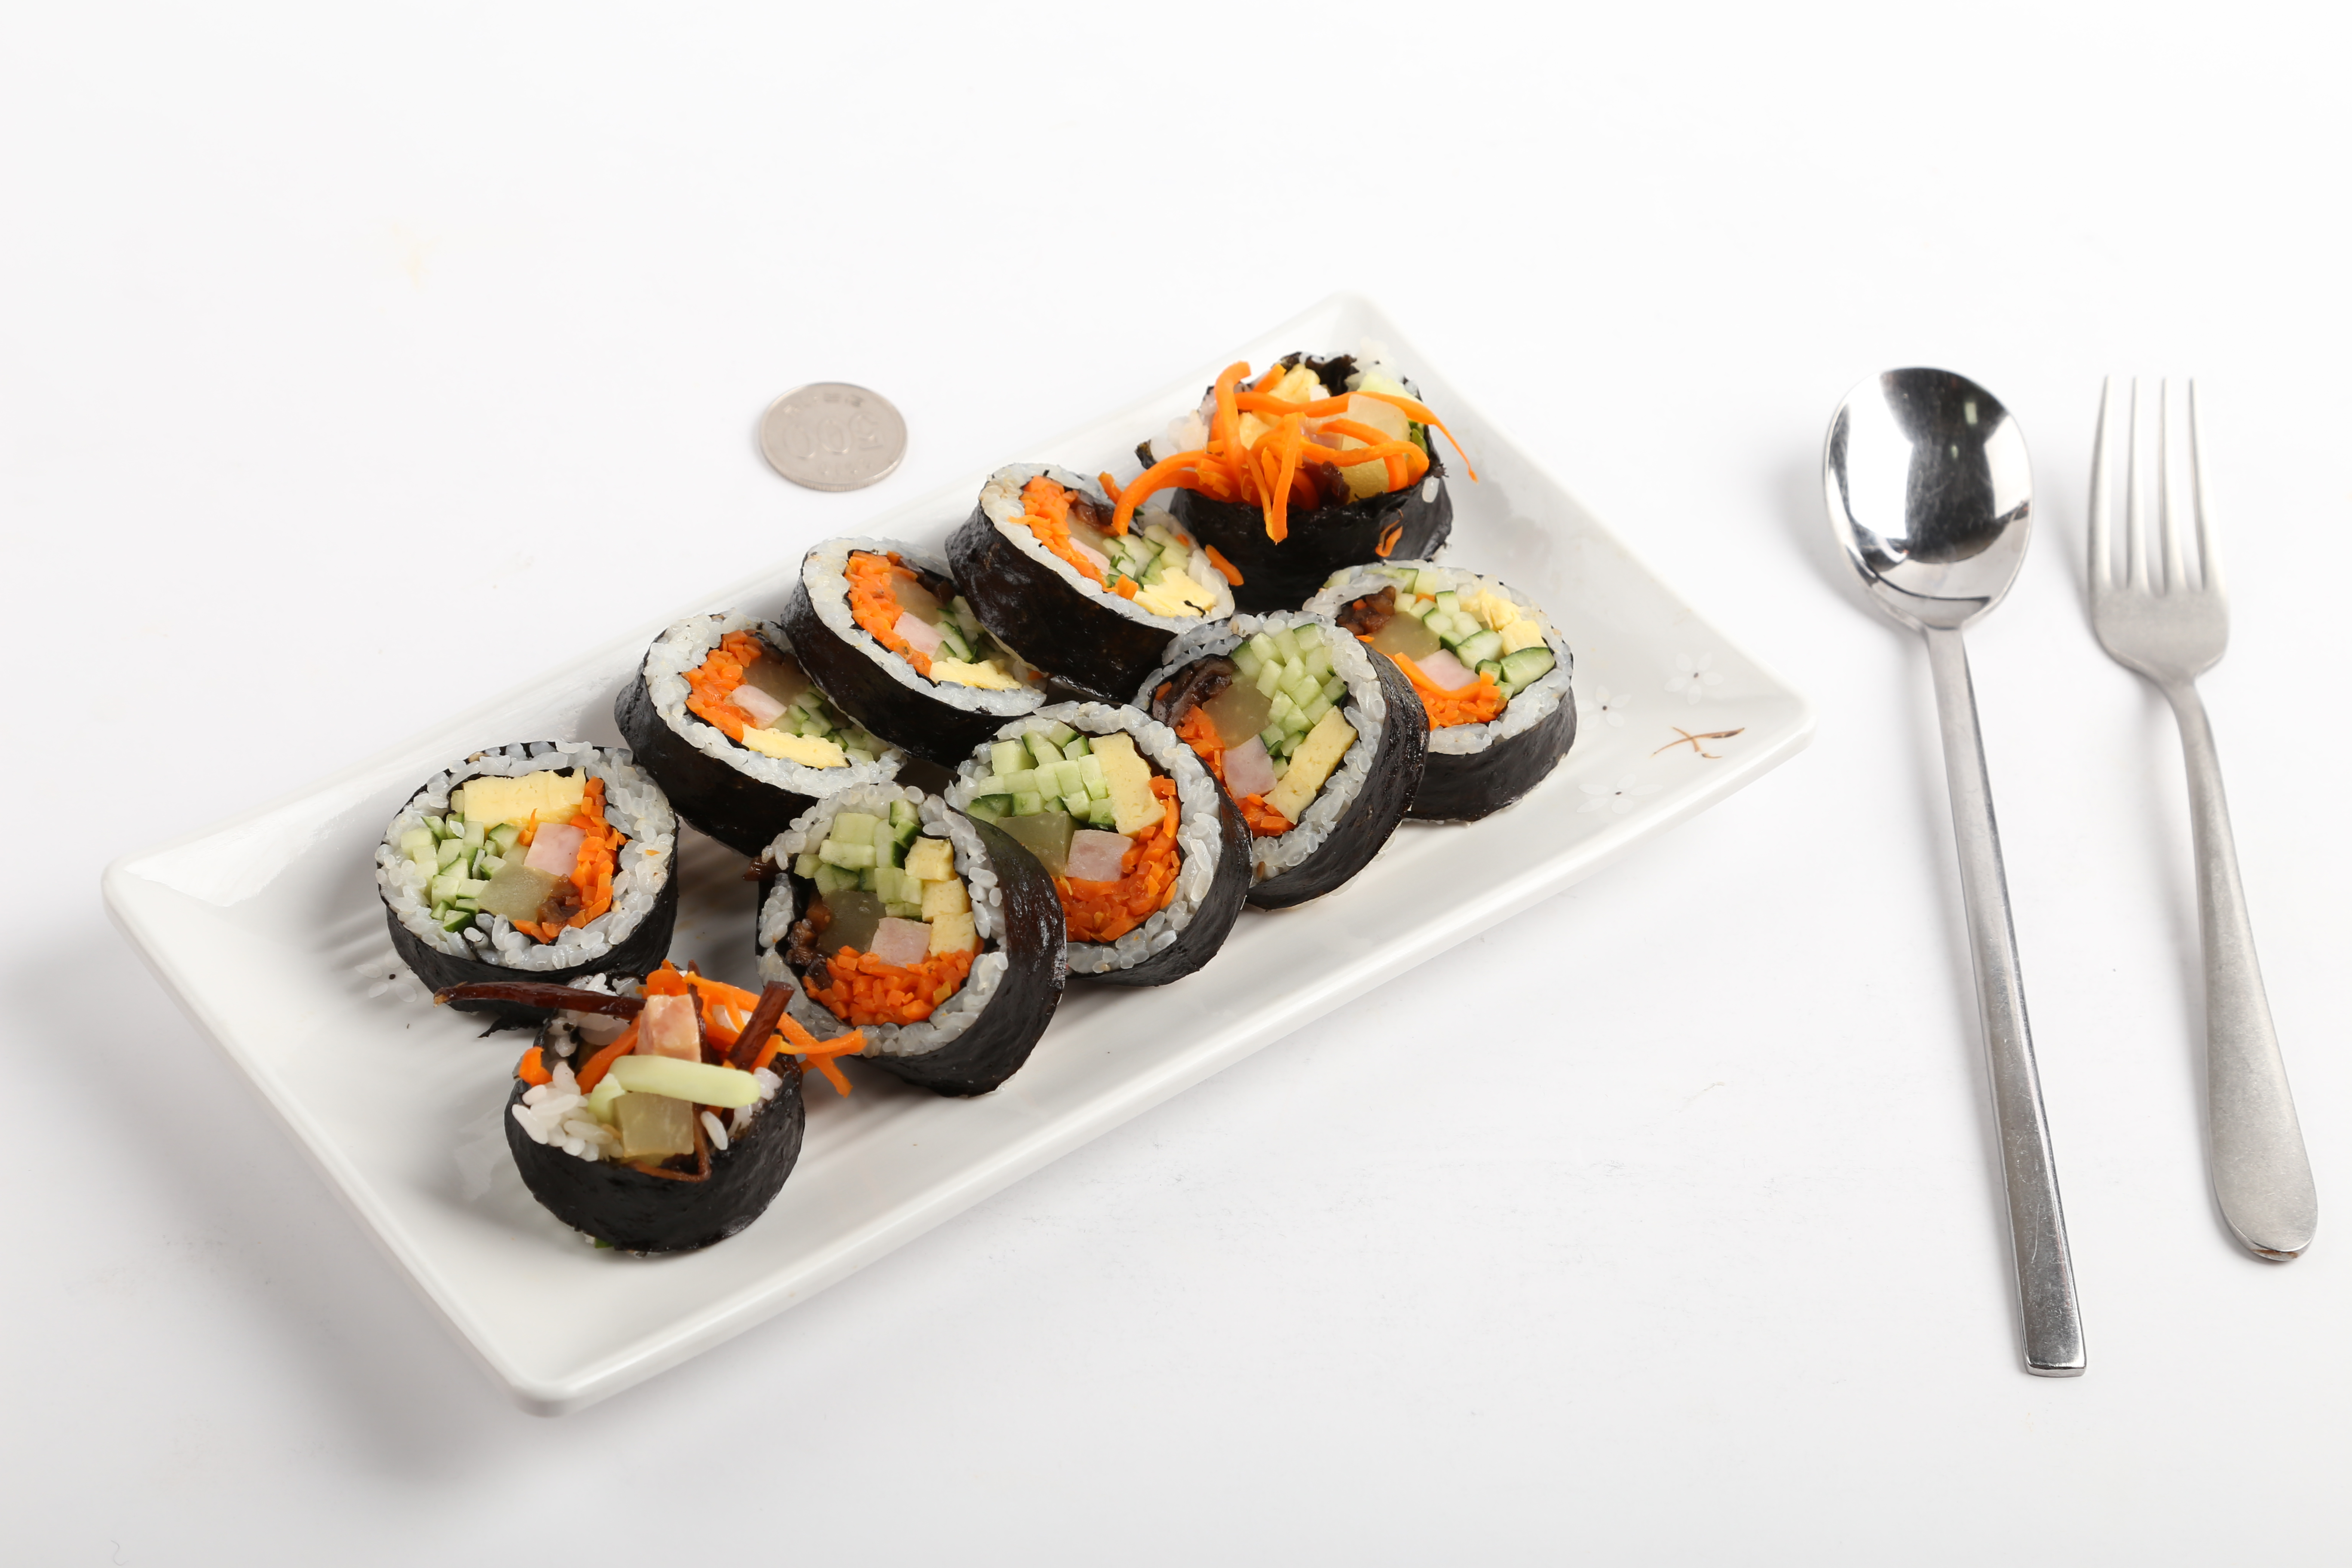dish: (107, 287, 1809, 1410)
ref_coin: (747, 374, 913, 499)
ref_fork: (2082, 376, 2231, 724)
ref_spoon: (1818, 360, 2039, 670)
김밥: (378, 359, 1584, 1256)
